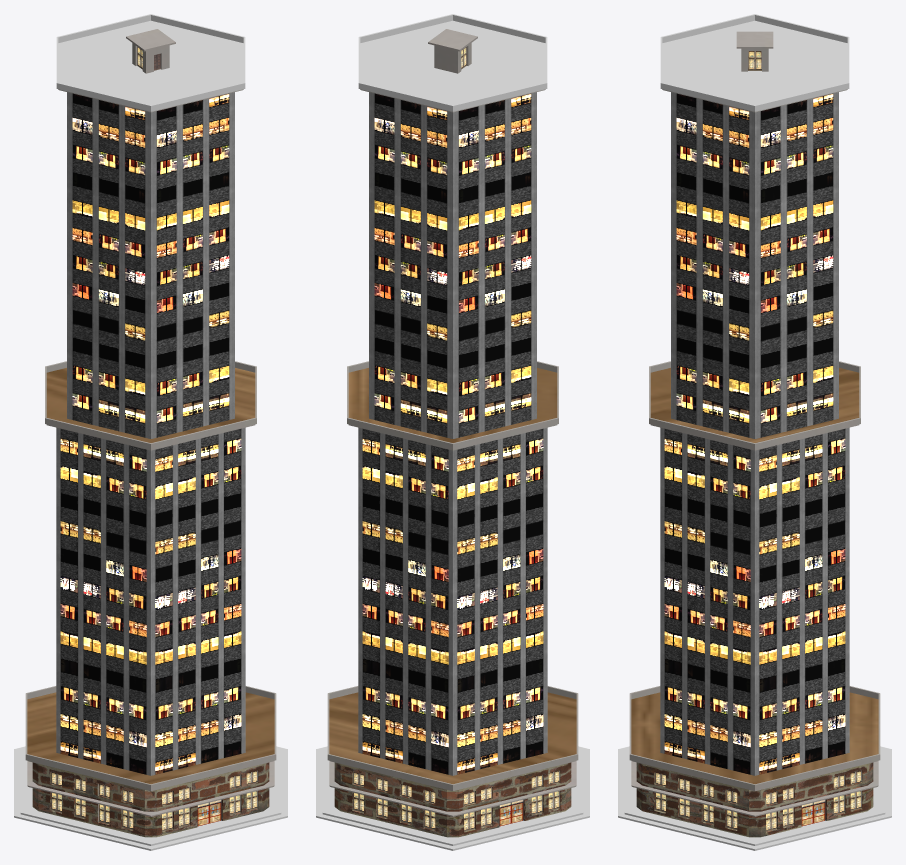
Rendered from BuildingD.fbx.
3 renders of one model, left to right at view 1: azimuth 30°, elevation 25°; view 2: azimuth 150°, elevation 25°; view 3: azimuth 270°, elevation 25°, orthographic.
Visible parts, largest first — view 1: BuildingD; view 2: BuildingD; view 3: BuildingD.
Boxes of the visible parts, left/top/right/bottom form: BuildingD: left=14, top=14, right=287, bottom=850; BuildingD: left=316, top=14, right=589, bottom=850; BuildingD: left=618, top=14, right=891, bottom=850.
Bounding box in the file's own units: 3465 × 9010 × 3001.
